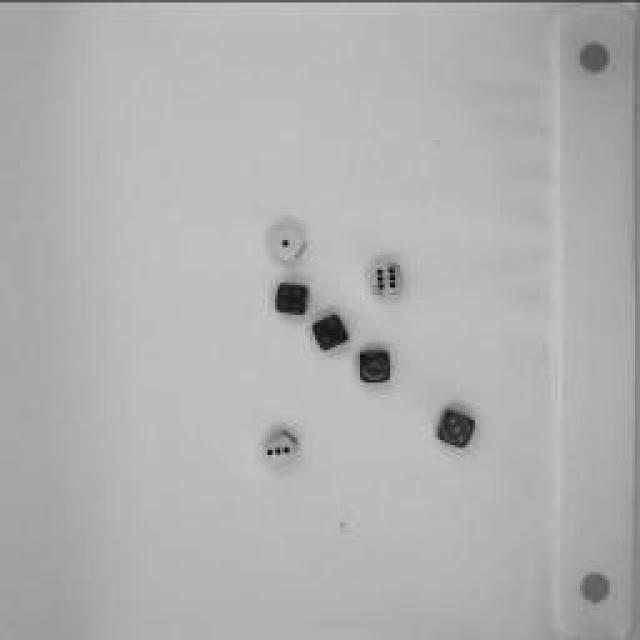dice_1: (265, 220, 310, 265), (358, 346, 398, 386)
dice_2: (310, 305, 350, 355)
dice_3: (256, 419, 299, 471), (435, 405, 475, 450)
dice_4: (270, 279, 315, 316)
dice_6: (365, 259, 405, 299)
